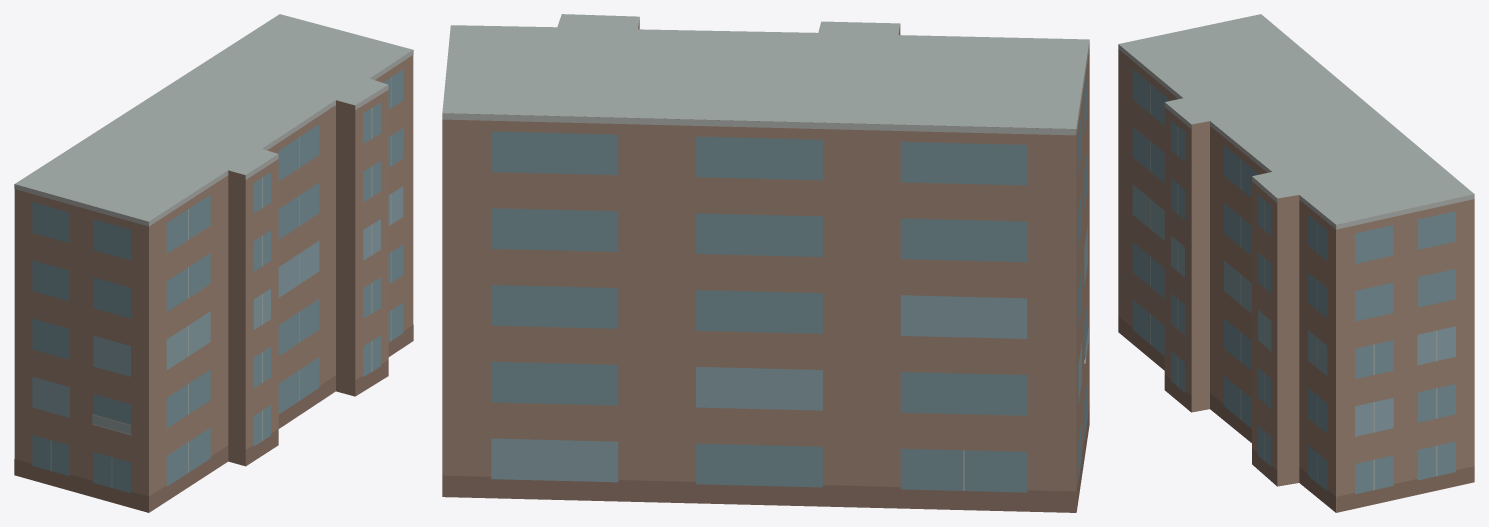
The model's file is survey-upis-32707356.glb.
3 renders of one model, left to right at view 1: azimuth 30°, elevation 25°; view 2: azimuth 150°, elevation 25°; view 3: azimuth 270°, elevation 25°, orthographic. The views are drawn at different scales.
Visible parts, largest first — view 1: survey-upis-32707356.tmp; view 2: survey-upis-32707356.tmp; view 3: survey-upis-32707356.tmp.
Part boxes in pixels (x1,y1,x2,y2): survey-upis-32707356.tmp: (14,14,413,512); survey-upis-32707356.tmp: (442,14,1089,512); survey-upis-32707356.tmp: (1118,14,1474,512).
Size of the model in its own units: 23.01 by 14.65 by 16.44.
